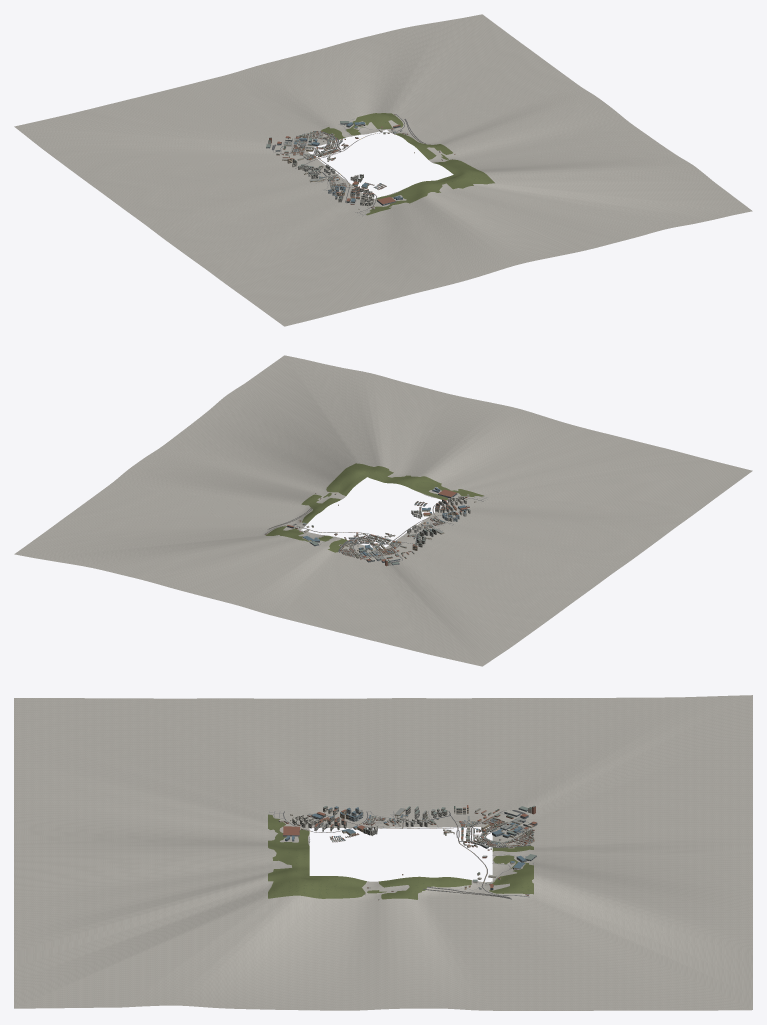
The picture shows the model from 3 angles, top to bottom: view 1: azimuth 30°, elevation 25°; view 2: azimuth 150°, elevation 25°; view 3: azimuth 270°, elevation 25°; orthographic projection. The views are drawn at different scales.
Visible parts, largest first — view 1: ctx-ground, ctx-buildings; view 2: ctx-ground, ctx-buildings; view 3: ctx-ground, ctx-buildings, ctx-roads.
Boxes of the visible parts, x1=… form: ctx-ground: x1=14, y1=14, x2=752, y2=326; ctx-buildings: x1=266, y1=114, x2=455, y2=209; ctx-ground: x1=14, y1=355, x2=752, y2=666; ctx-buildings: x1=265, y1=487, x2=476, y2=566; ctx-ground: x1=14, y1=695, x2=752, y2=1010; ctx-buildings: x1=278, y1=805, x2=537, y2=900; ctx-roads: x1=283, y1=810, x2=531, y2=897.
Bounding box in the file's own units: 6400 × 100 × 6400.
19 materials, 16 textured.
